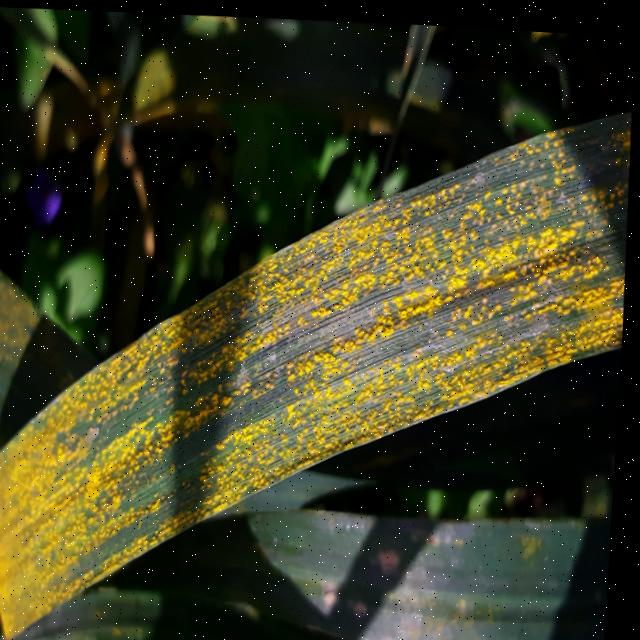yellow_rust: (0, 66, 637, 640)
